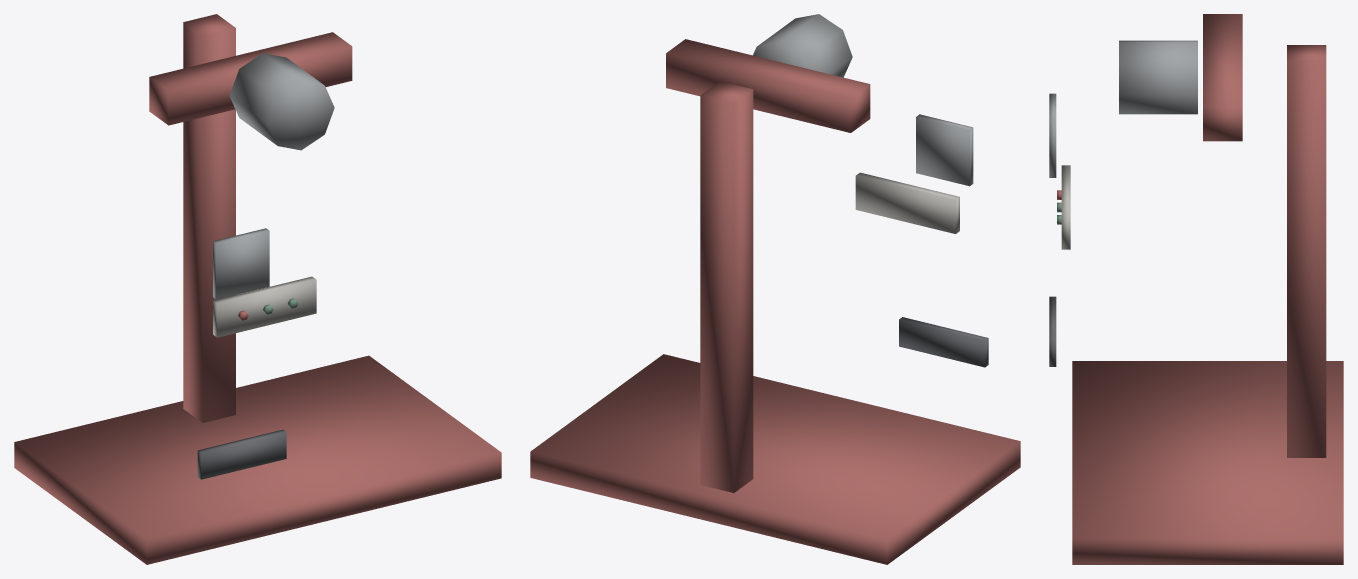
File: engine_stand__weathered.glb
3 renders of one model, left to right at view 1: azimuth 30°, elevation 25°; view 2: azimuth 150°, elevation 25°; view 3: azimuth 270°, elevation 25°, orthographic. The views are drawn at different scales.
Visible parts, largest first — view 1: world; view 2: world; view 3: world.
Part boxes in pixels (box(x1,y1,x2,y2)): world: box(14, 14, 501, 564); world: box(530, 14, 1020, 564); world: box(1049, 14, 1343, 564).
Bounding box in the file's own units: 0.85 × 0.9702 × 0.5964.
